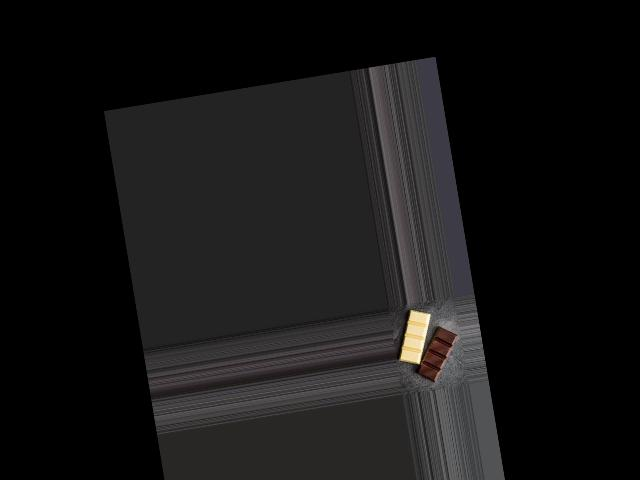chocolate: (391, 300, 462, 386)
